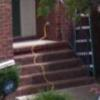stairs: (14, 39, 99, 97)
